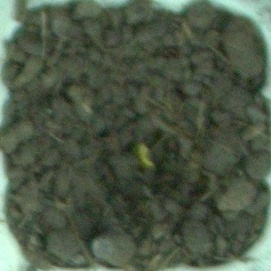pepper seed: (52, 55, 212, 224)
